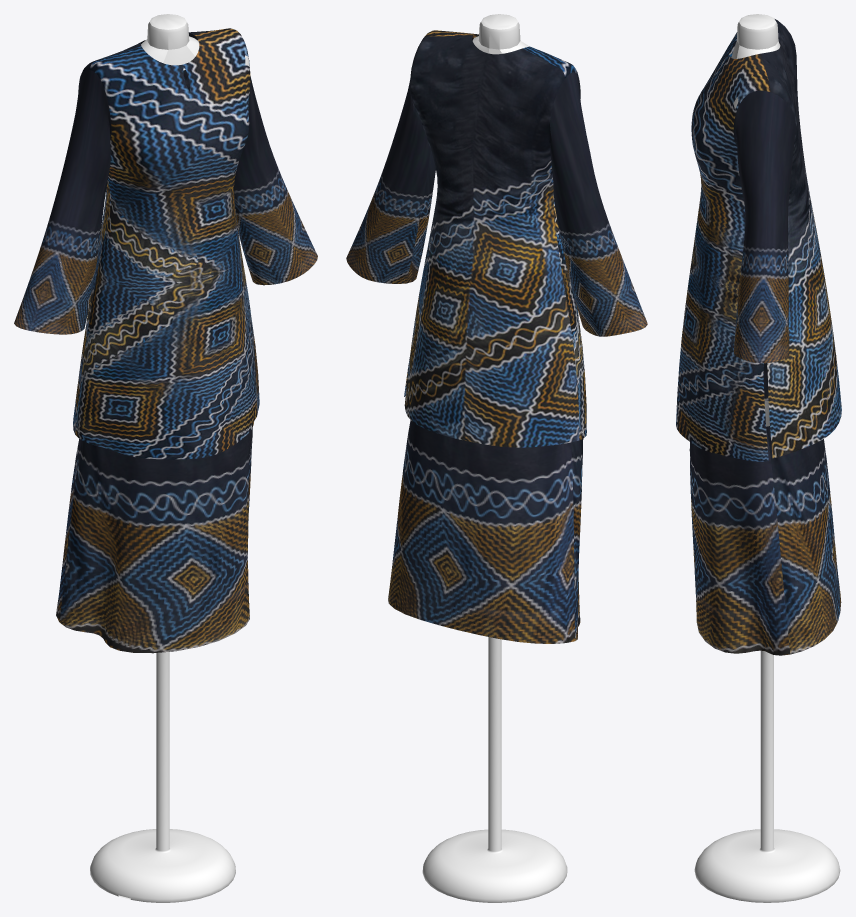
Rendered from BAJU KURUNG MODEN.fbx.
3 renders of one model, left to right at view 1: azimuth 30°, elevation 25°; view 2: azimuth 150°, elevation 25°; view 3: azimuth 270°, elevation 25°, orthographic.
Visible parts, largest first — view 1: Mesh, stand_1; view 2: Mesh, stand_1; view 3: Mesh, stand_1.
Boxes of the visible parts, x1,y1,x2,y2 form: Mesh: [14, 14, 317, 653]; stand_1: [90, 652, 235, 902]; Mesh: [346, 14, 647, 643]; stand_1: [422, 637, 567, 902]; Mesh: [676, 14, 841, 655]; stand_1: [694, 650, 840, 902].
Bounding box in the file's own units: 147 × 400 × 70.58.
2 materials, 1 textured.
